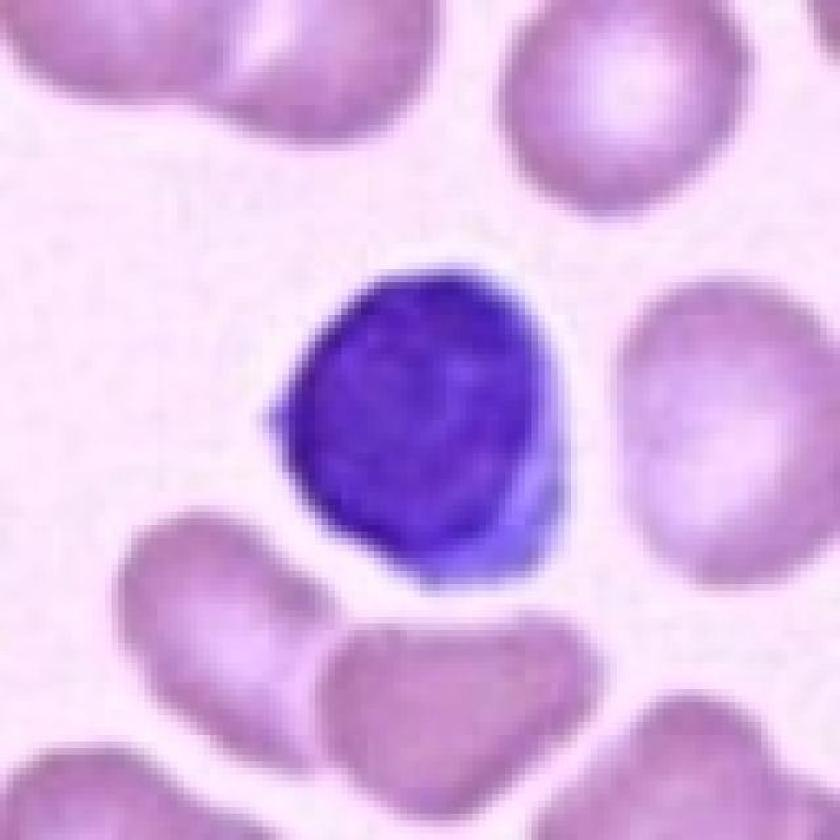lymphocyte: (273, 246, 585, 606)
